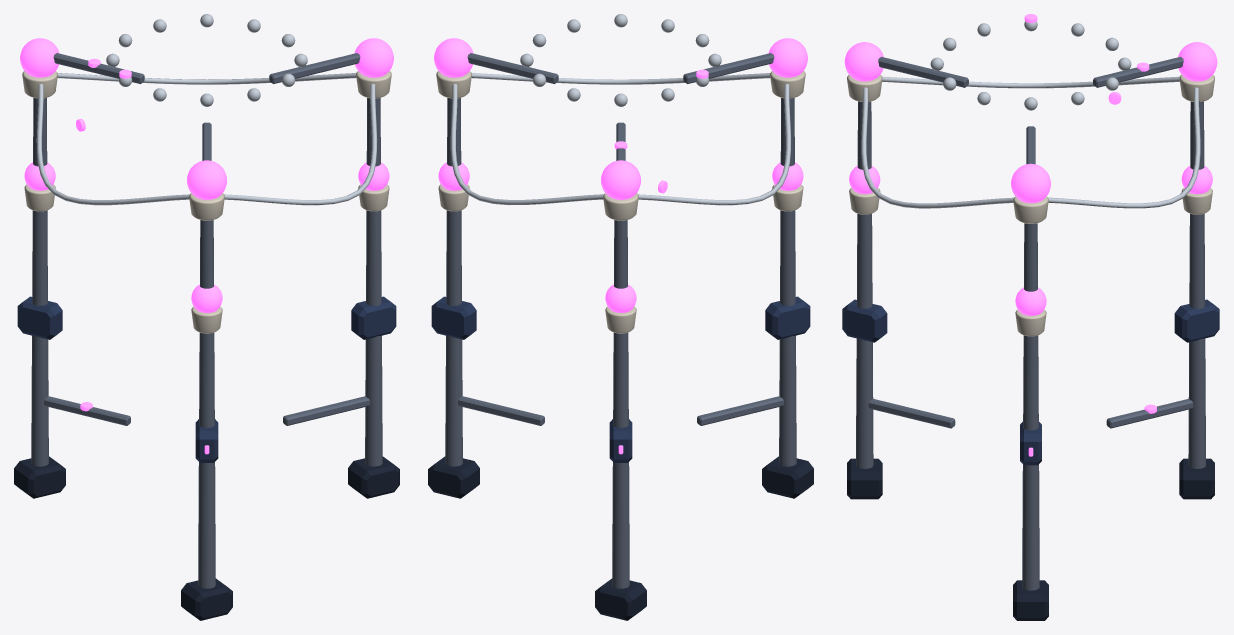
Rendered from tower_arc_range_s8.glb.
The picture shows the model from 3 angles, left to right: view 1: azimuth 30°, elevation 25°; view 2: azimuth 150°, elevation 25°; view 3: azimuth 270°, elevation 25°; orthographic projection.
Parts seen in each view (by area): view 1: arc_sat_strut2, arc_sat_strut0, arc_sat_strut1, arc_sat_foot0, arc_sat_foot1, arc_sat_foot2, arc_ioniser0, arc_ioniser1, arc_relay_wire1, arc_relay_wire2, arc_relay_wire0, arc_sat_electrode2 (+16 smaller); view 2: arc_sat_strut0, arc_sat_strut2, arc_sat_strut1, arc_sat_foot1, arc_sat_foot2, arc_sat_foot0, arc_ioniser1, arc_ioniser2, arc_relay_wire2, arc_relay_wire0, arc_relay_wire1, arc_sat_electrode0 (+16 smaller); view 3: arc_sat_strut1, arc_sat_strut0, arc_sat_strut2, arc_ioniser0, arc_ioniser2, arc_relay_wire1, arc_relay_wire0, arc_relay_wire2, arc_sat_foot0, arc_sat_foot2, arc_sat_foot1, arc_sat_electrode1 (+16 smaller).
Boxes of the visible parts, x1,y1,x2,y2 form: arc_sat_strut2: [198, 220, 215, 588]; arc_sat_strut0: [31, 98, 48, 466]; arc_sat_strut1: [365, 98, 382, 466]; arc_sat_foot0: [14, 456, 65, 498]; arc_sat_foot1: [348, 456, 399, 498]; arc_sat_foot2: [181, 578, 232, 620]; arc_ioniser0: [17, 296, 62, 339]; arc_ioniser1: [351, 296, 396, 339]; arc_relay_wire1: [224, 84, 377, 205]; arc_relay_wire2: [36, 84, 189, 205]; arc_relay_wire0: [57, 73, 356, 84]; arc_sat_electrode2: [187, 160, 226, 199]; arc_sat_strut0: [612, 220, 629, 588]; arc_sat_strut2: [779, 98, 796, 466]; arc_sat_strut1: [445, 98, 462, 466]; arc_sat_foot1: [428, 456, 479, 498]; arc_sat_foot2: [762, 456, 813, 498]; arc_sat_foot0: [595, 578, 646, 620]; arc_ioniser1: [431, 296, 476, 339]; arc_ioniser2: [765, 296, 810, 339]; arc_relay_wire2: [638, 84, 791, 205]; arc_relay_wire0: [450, 84, 603, 205]; arc_relay_wire1: [471, 73, 770, 84]; arc_sat_electrode0: [601, 160, 640, 199]; arc_sat_strut1: [1022, 223, 1039, 590]; arc_sat_strut0: [1188, 101, 1205, 468]; arc_sat_strut2: [856, 101, 873, 468]; arc_ioniser0: [1174, 299, 1219, 342]; arc_ioniser2: [842, 299, 887, 342]; arc_relay_wire1: [861, 87, 1013, 208]; arc_relay_wire0: [1048, 87, 1200, 208]; arc_relay_wire2: [882, 76, 1179, 88]; arc_sat_foot0: [1179, 458, 1214, 499]; arc_sat_foot2: [847, 458, 882, 499]; arc_sat_foot1: [1013, 580, 1048, 620]; arc_sat_electrode1: [1011, 163, 1050, 203].
Bounding box in the file's own units: 1.75 × 2.36 × 1.69.
